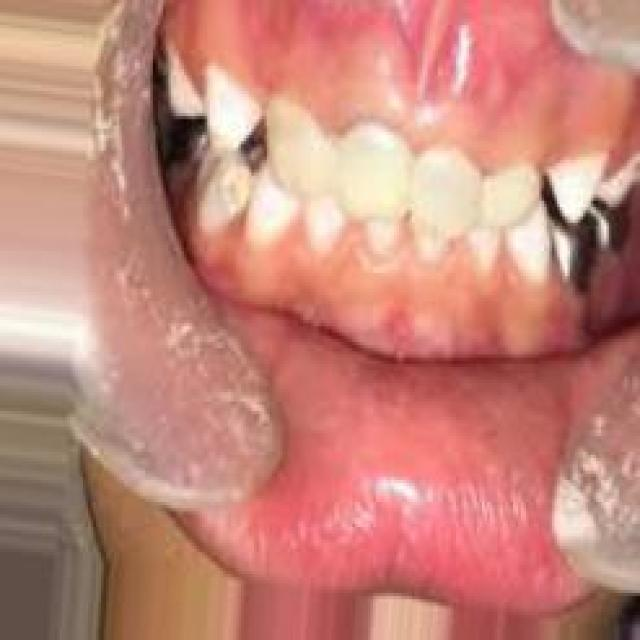caries: (198, 144, 271, 228)
